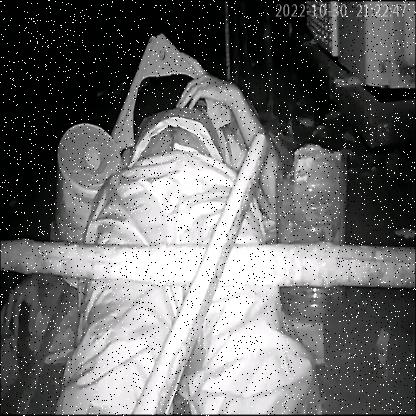hand: (170, 49, 276, 206), (0, 264, 58, 343)
